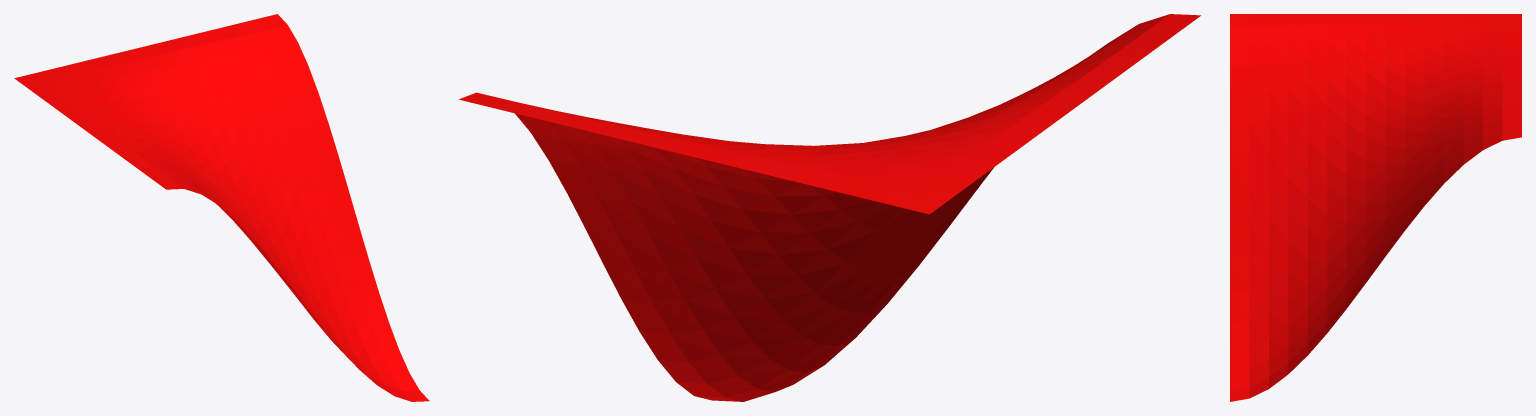
The model's file is InvertedTrenchCorner.fbx.
3 views of the same model, side by side, from view 1: azimuth 30°, elevation 25°; view 2: azimuth 150°, elevation 25°; view 3: azimuth 270°, elevation 25° (orthographic). The views are drawn at different scales.
Visible parts, largest first — view 1: transform1; view 2: transform1; view 3: transform1.
Part boxes in pixels (x1,y1,x2,y2): transform1: (14,14,429,401); transform1: (458,14,1200,401); transform1: (1230,14,1521,401).
Size of the model in its own units: 1 by 1 by 1.
